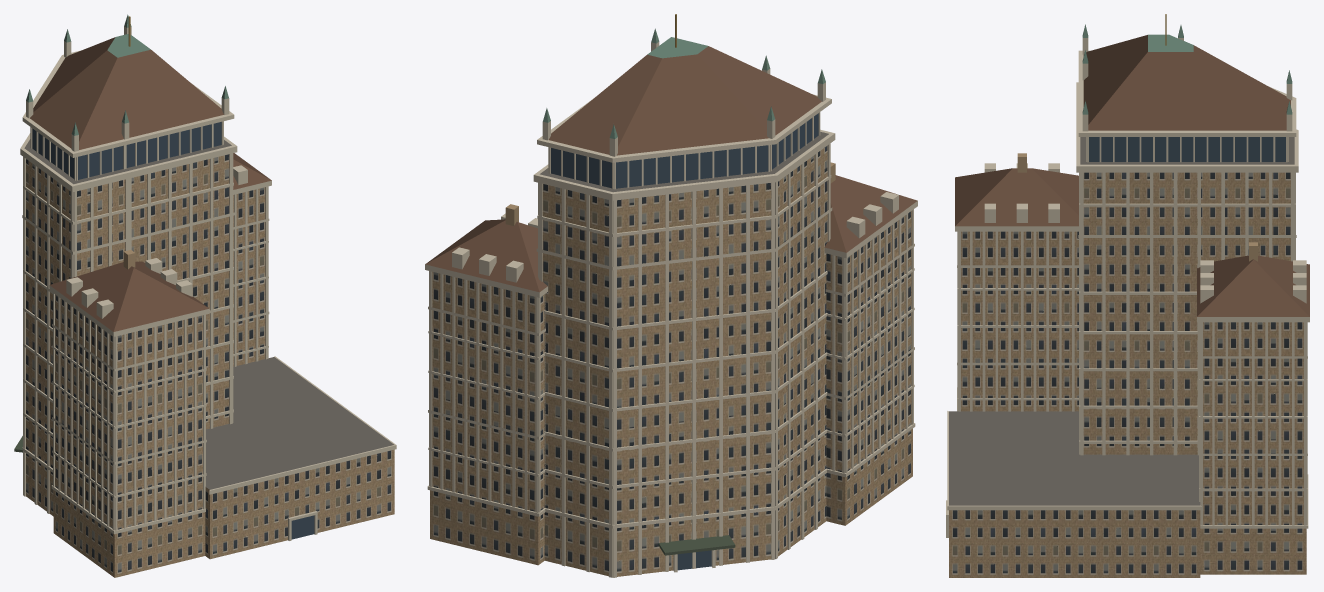
The model's file is mark_hopkins.glb.
3 renders of one model, left to right at view 1: azimuth 30°, elevation 25°; view 2: azimuth 150°, elevation 25°; view 3: azimuth 270°, elevation 25°, orthographic. The views are drawn at different scales.
Visible parts, largest first — view 1: mark_hopkins; view 2: mark_hopkins; view 3: mark_hopkins.
Part boxes in pixels (<box>): mark_hopkins: <box>14,14,396,577</box>; mark_hopkins: <box>425,14,917,577</box>; mark_hopkins: <box>946,14,1309,577</box>.
Size of the model in its own units: 59 by 93 by 63.7.
Materials: 2 (2 with a texture image).
